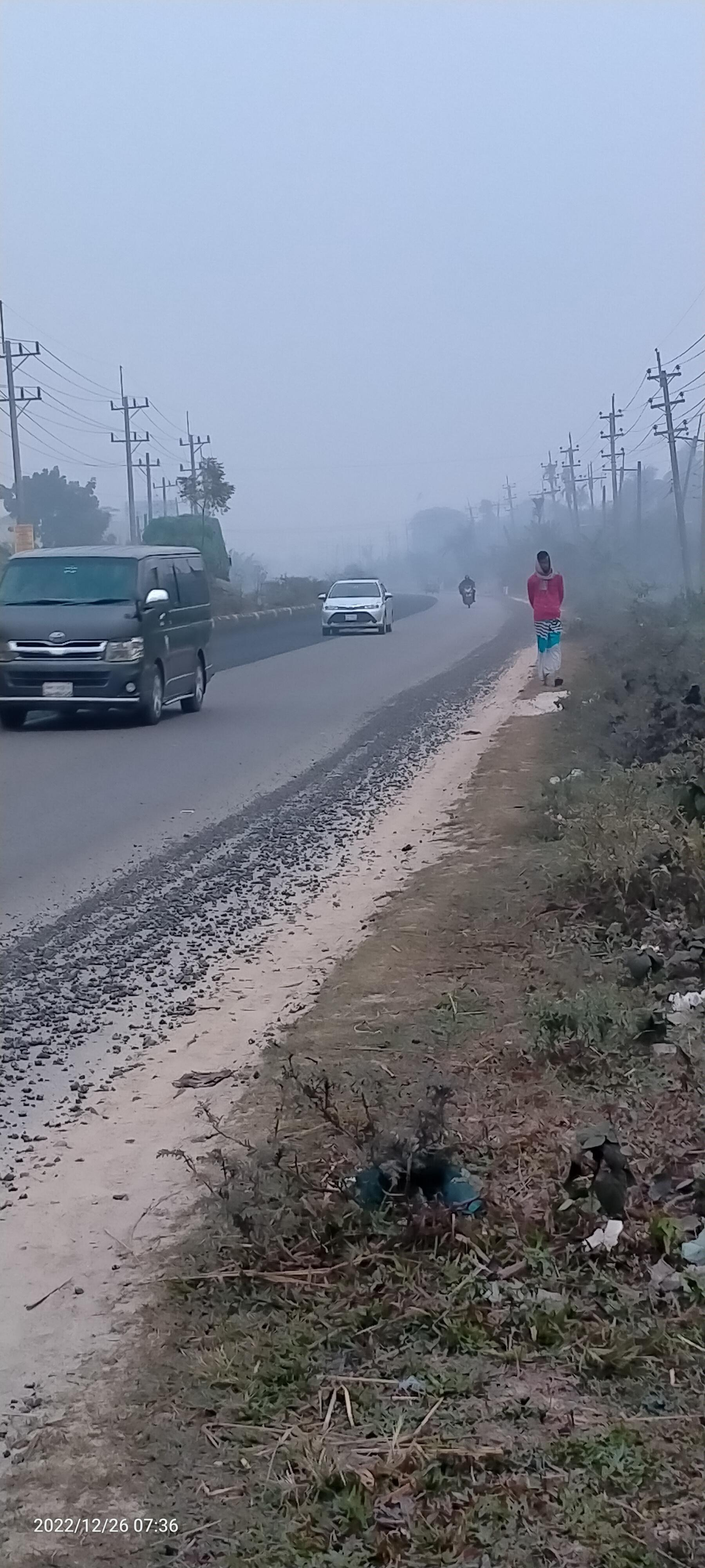Bike: (455, 566, 497, 614)
Car: (8, 534, 228, 737), (305, 570, 409, 652)
